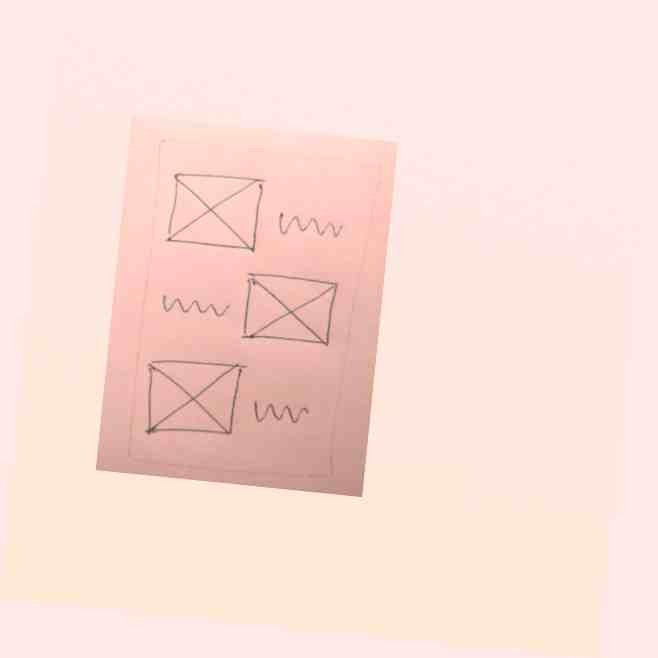image: (138, 353, 248, 447), (163, 163, 266, 256), (236, 268, 341, 352)
text: (271, 205, 349, 250), (156, 288, 236, 328), (246, 393, 314, 433)
